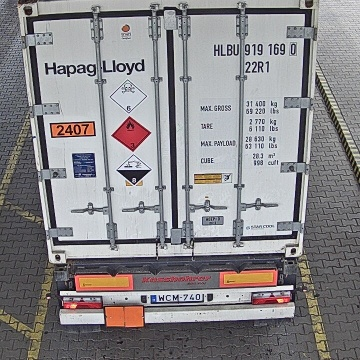serial_id: (214, 43, 297, 55)
